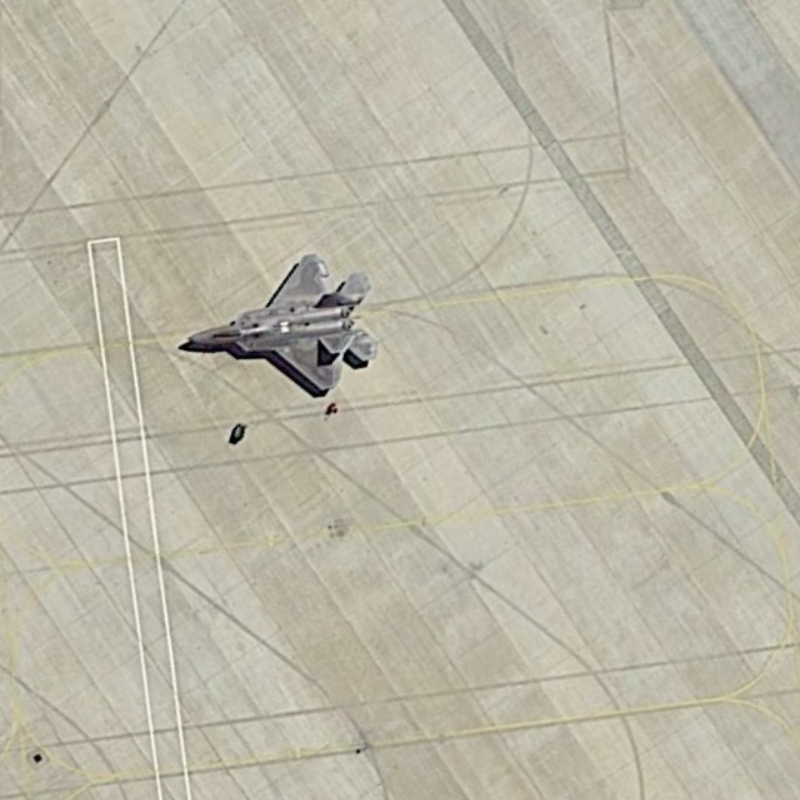A15: (171, 248, 379, 403)
